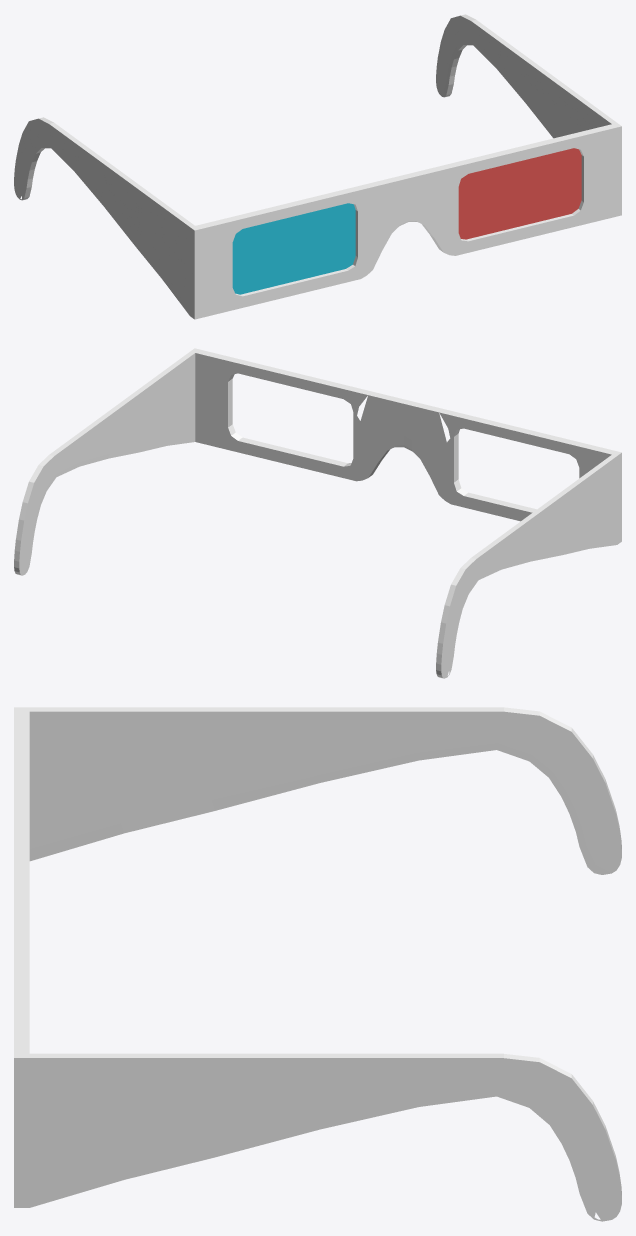
File: 3d-glasses_v11.glb
3 renders of one model, top to bottom at view 1: azimuth 30°, elevation 25°; view 2: azimuth 150°, elevation 25°; view 3: azimuth 270°, elevation 25°, orthographic. The views are drawn at different scales.
Parts seen in each view (by area): view 1: anaglyph_glass_pCube5.1, anaglyph_glass_pPlane2.3, pPlane1_anaglyph_glass.3; view 2: anaglyph_glass_pCube5.1; view 3: anaglyph_glass_pCube5.1.
Boxes of the visible parts, bbox=[...] form: anaglyph_glass_pCube5.1: bbox=[14, 14, 621, 319]; anaglyph_glass_pPlane2.3: bbox=[232, 203, 355, 294]; pPlane1_anaglyph_glass.3: bbox=[458, 148, 581, 239]; anaglyph_glass_pCube5.1: bbox=[14, 348, 621, 678]; anaglyph_glass_pCube5.1: bbox=[14, 707, 621, 1221].
Size of the model in its own units: 0.0927 by 0.0201 by 0.0679.
